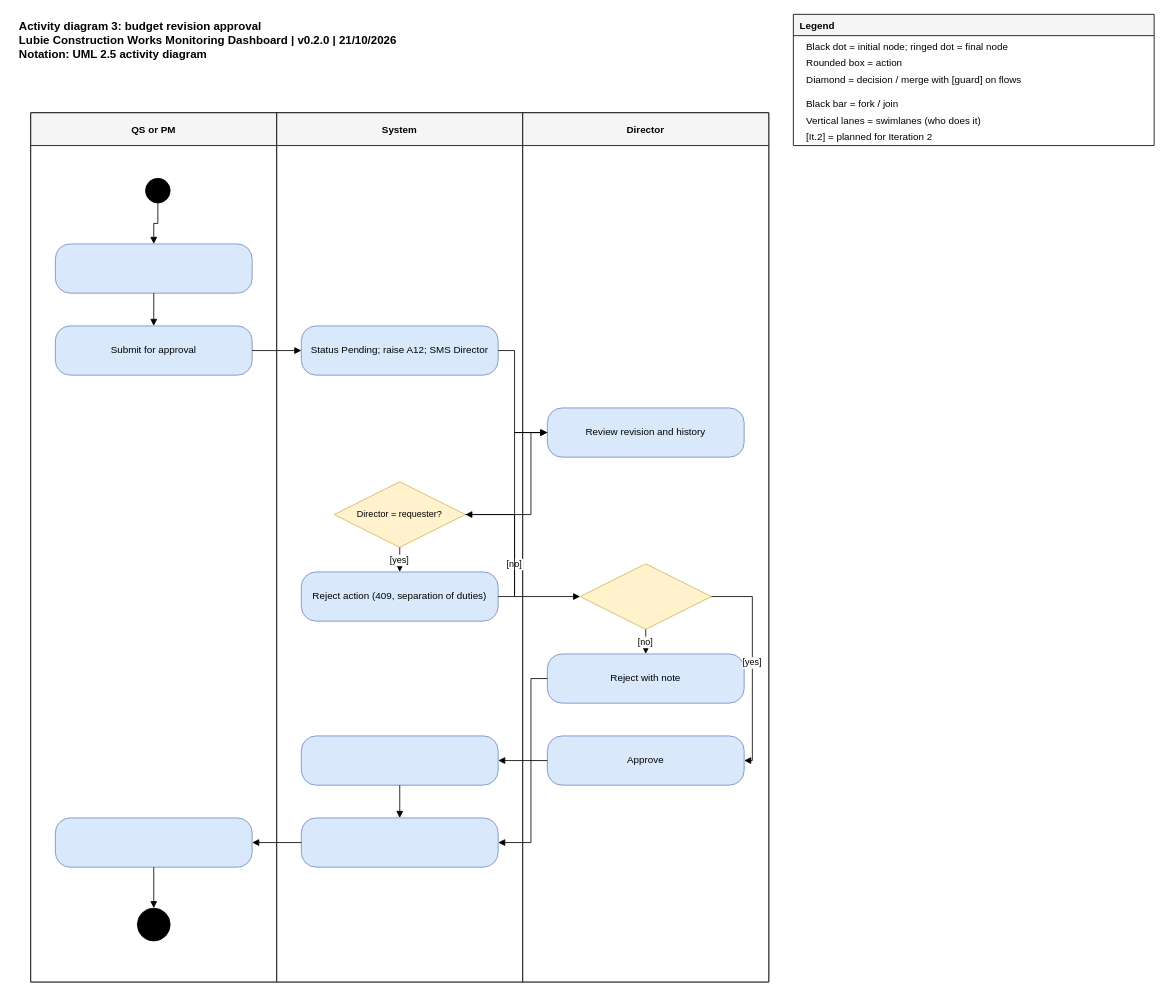
Image size: 1169x996. Some labels were removed from this diagram. The shapes that lost their labels are listed below. From the top down, each one's centre as x and y in pixels, then its label:
At (x=153, y=268): "Prepare revision (amount, reason) as draft".
At (x=645, y=596): "Approve?".
At (x=399, y=760): "One transaction: old current -> Superseded; new -> Approved, current".
At (x=153, y=842): "Requester sees decision".
At (x=399, y=842): "Clear A12; re-evaluate A5, A6, A6b, A7; audit".
